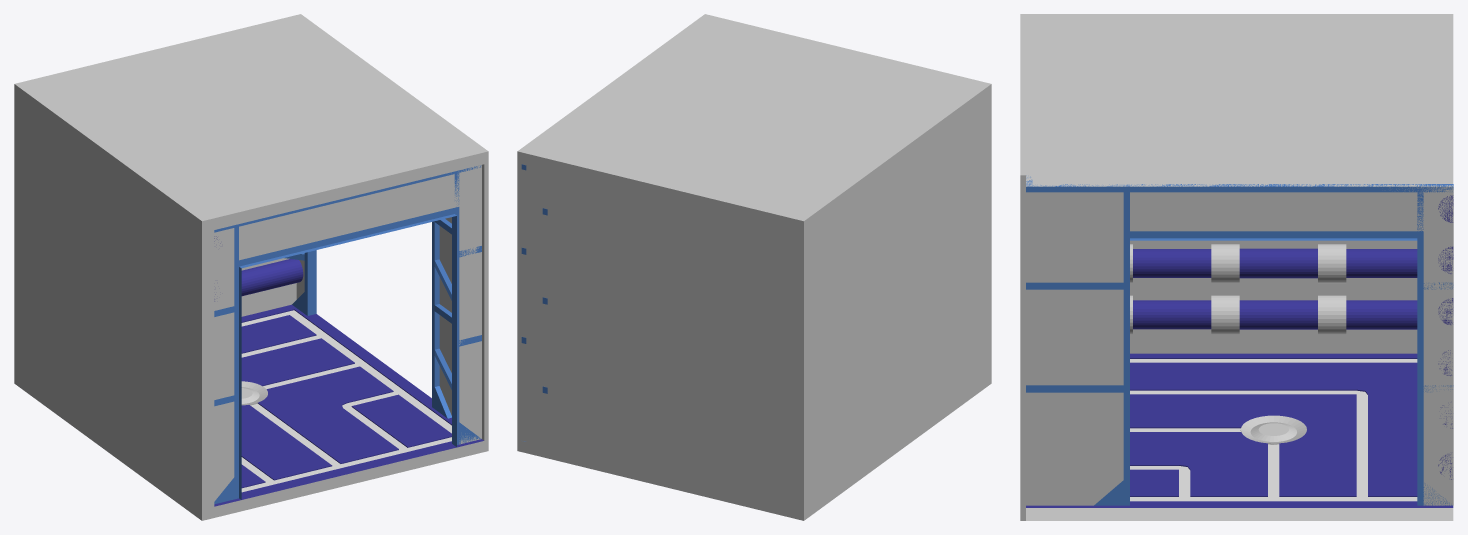
Rendered from CorridorCorner.fbx.
3 views of the same model, side by side, from view 1: azimuth 30°, elevation 25°; view 2: azimuth 150°, elevation 25°; view 3: azimuth 270°, elevation 25° (orthographic). The views are drawn at different scales.
Parts seen in each view (by area): view 1: Cube; view 2: Cube; view 3: Cube.
Boxes of the visible parts, x1,y1,x2,y2 form: Cube: (14,14,488,520); Cube: (517,14,991,520); Cube: (1020,14,1453,520).
Bounding box in the file's own units: 672 × 672 × 763.
